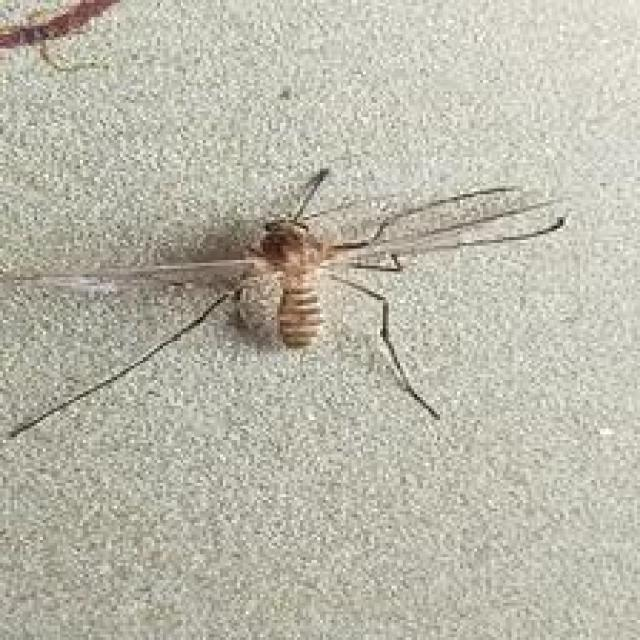Culex: (0, 163, 569, 443)
